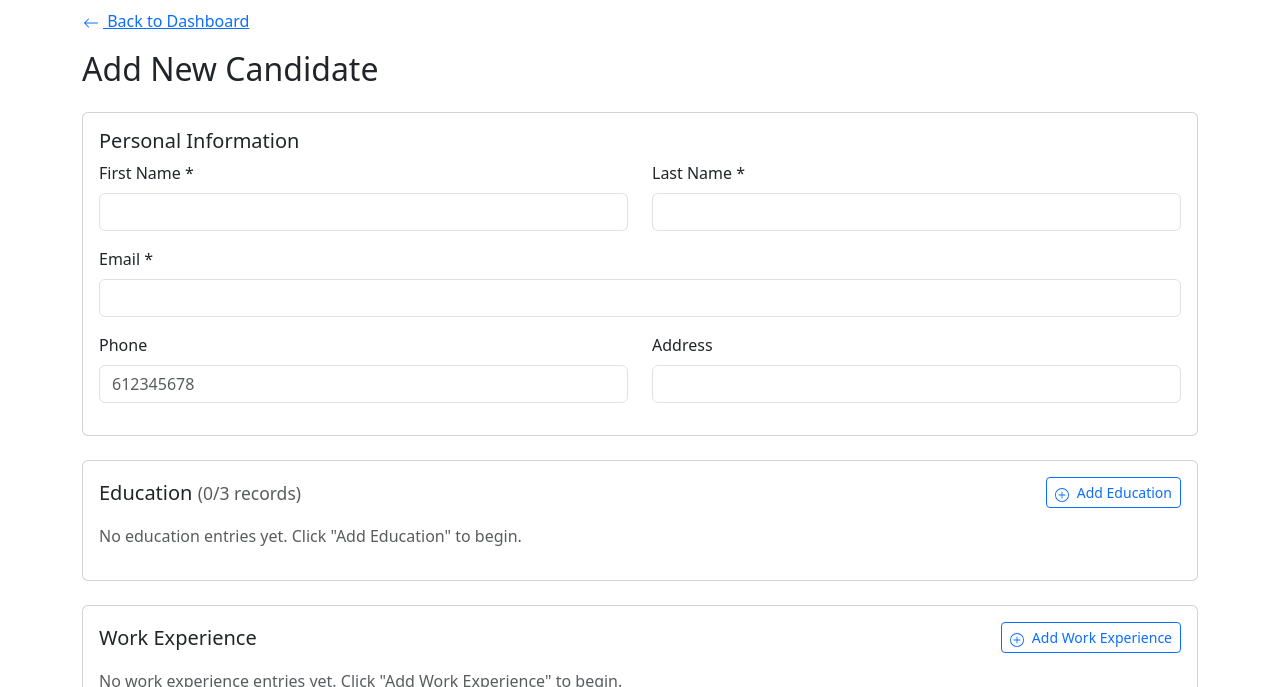
Add Candidate Feature › Add Candidate Form - Work Experience Management › should remove a work experience entry
The image size is (1280, 687).
Click the button with test id "add-experience-btn": (1091, 638) x1=1001 y1=622 x2=1181 y2=653
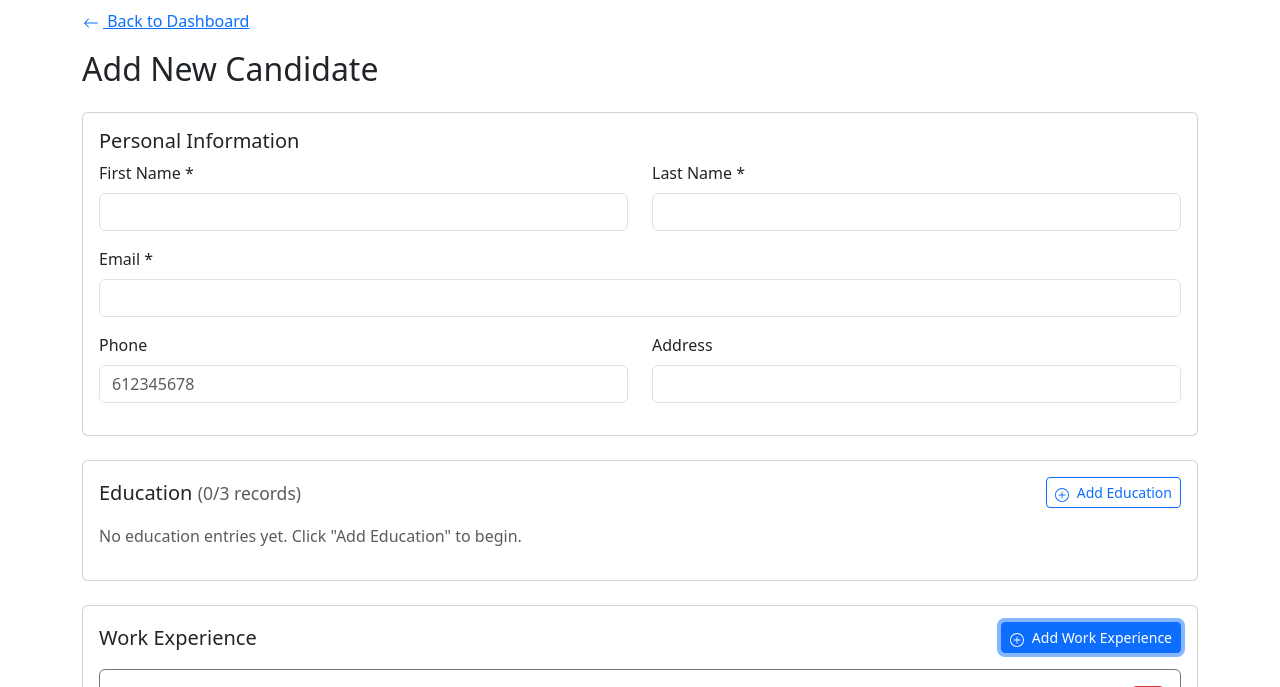
Scroll
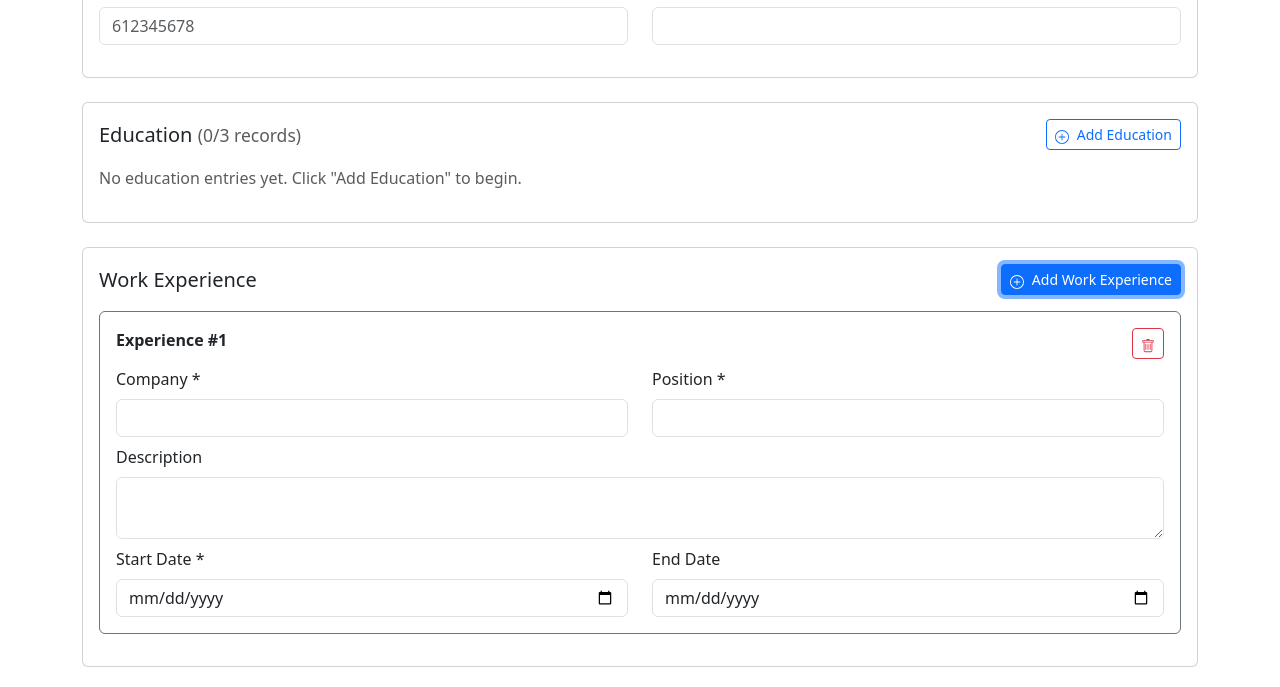
Click the button with test id "remove-experience-0": (1148, 344) x1=1132 y1=328 x2=1164 y2=359
(page scrolled)
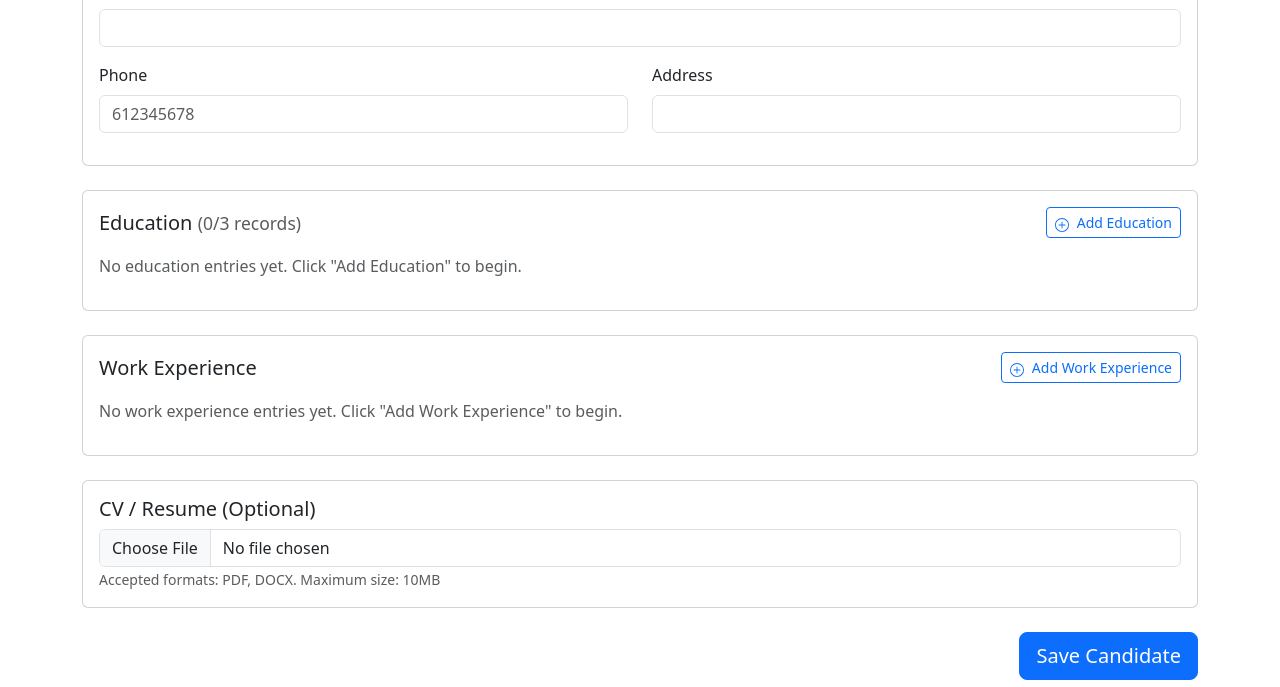
Expected: the field with test id "experience-company-0" is gone
